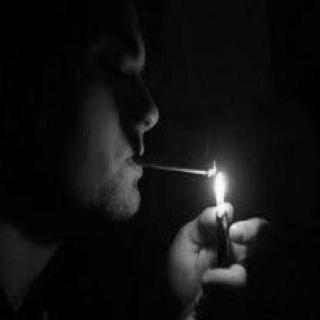Fire: (210, 166, 232, 214)
